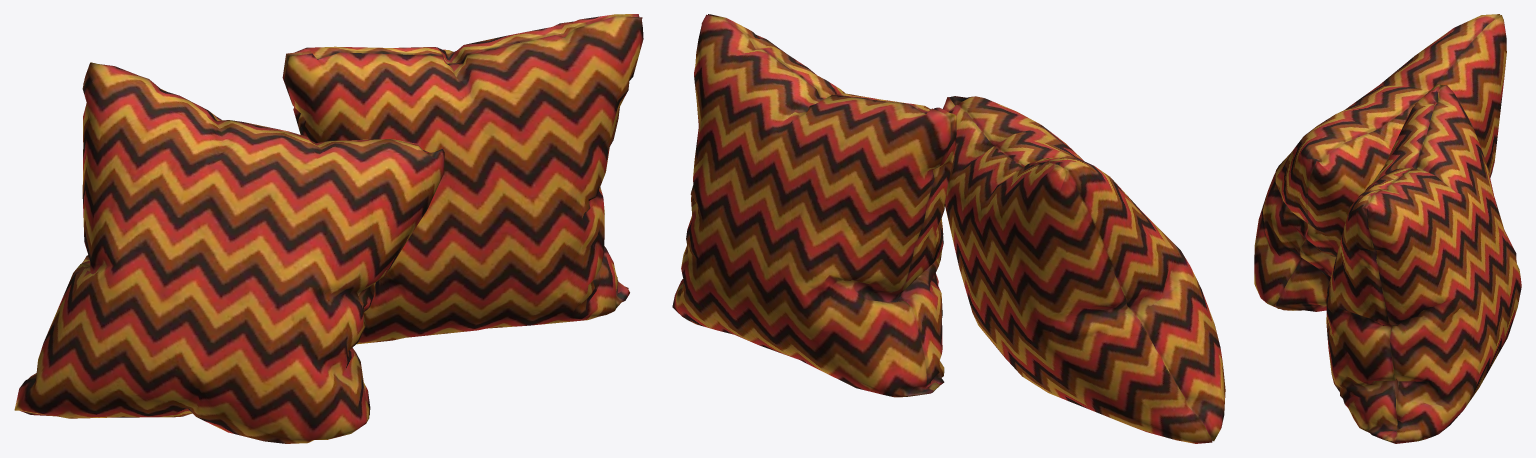
The model's file is cushions.glb.
3 renders of one model, left to right at view 1: azimuth 30°, elevation 25°; view 2: azimuth 150°, elevation 25°; view 3: azimuth 270°, elevation 25°, orthographic. The views are drawn at different scales.
Parts seen in each view (by area): view 1: throw_pillows_01_pillow02; view 2: throw_pillows_01_pillow02; view 3: throw_pillows_01_pillow02.
Boxes of the visible parts, left/top/right/bottom form: throw_pillows_01_pillow02: left=14, top=14, right=643, bottom=443; throw_pillows_01_pillow02: left=672, top=14, right=1225, bottom=443; throw_pillows_01_pillow02: left=1254, top=14, right=1521, bottom=443.
Bounding box in the file's own units: 0.9397 × 0.45 × 0.4503.
1 material, 1 textured.
